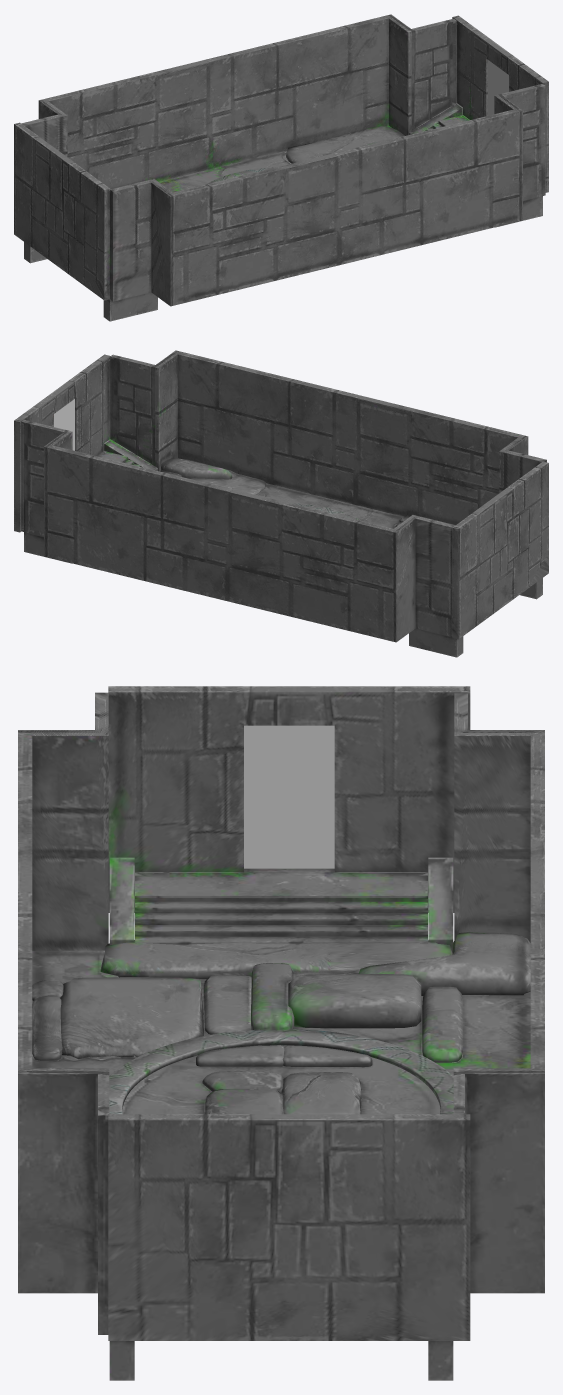
File: TEMPLE_MOD.fbx
3 views of the same model, one above another, from view 1: azimuth 30°, elevation 25°; view 2: azimuth 150°, elevation 25°; view 3: azimuth 270°, elevation 25° (orthographic). The views are drawn at different scales.
Visible parts, largest first — view 1: ARO.002; view 2: ARO.002; view 3: ARO.002.
Part boxes in pixels (bbox=[...]): ARO.002: bbox=[14, 14, 548, 321]; ARO.002: bbox=[14, 350, 548, 657]; ARO.002: bbox=[18, 686, 544, 1380].
Bounding box in the file's own units: 1516 × 433 × 779.
